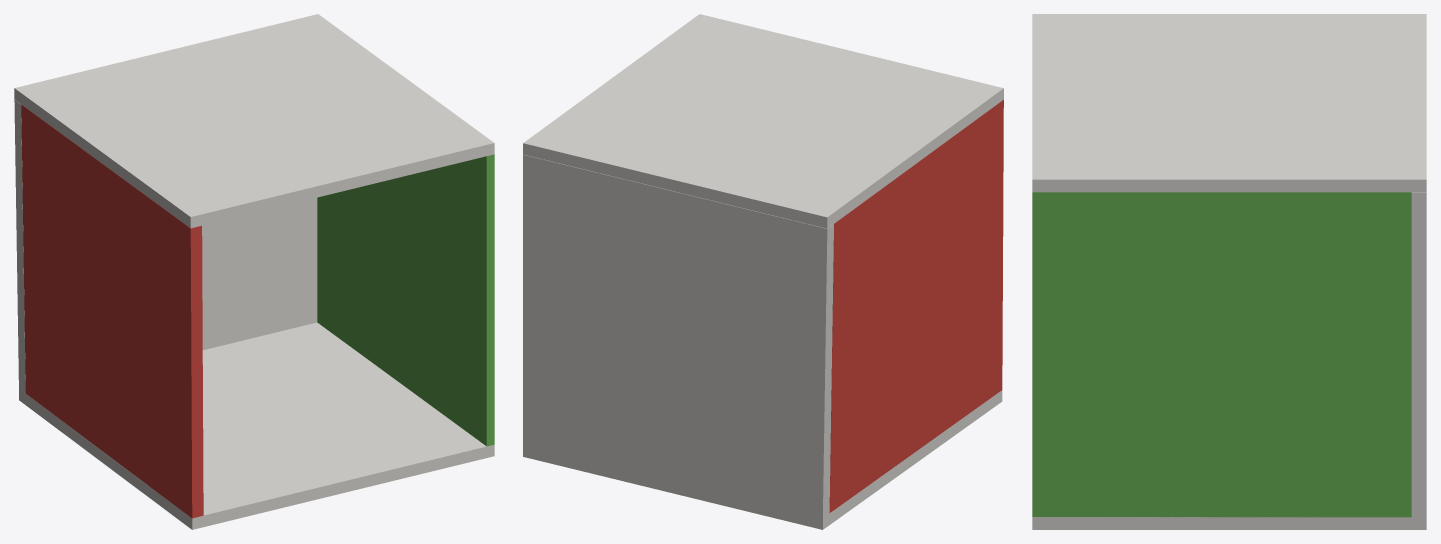
The model's file is CornellBoxEmpty.gltf.
3 renders of one model, left to right at view 1: azimuth 30°, elevation 25°; view 2: azimuth 150°, elevation 25°; view 3: azimuth 270°, elevation 25°, orthographic. The views are drawn at different scales.
Visible parts, largest first — view 1: CornellBox-Original; view 2: CornellBox-Original; view 3: CornellBox-Original.
Part boxes in pixels (bbox=[...]): CornellBox-Original: bbox=[14, 14, 494, 529]; CornellBox-Original: bbox=[523, 14, 1003, 529]; CornellBox-Original: bbox=[1032, 14, 1426, 529].
Bounding box in the file's own units: 2.02 × 1.99 × 2.03.
